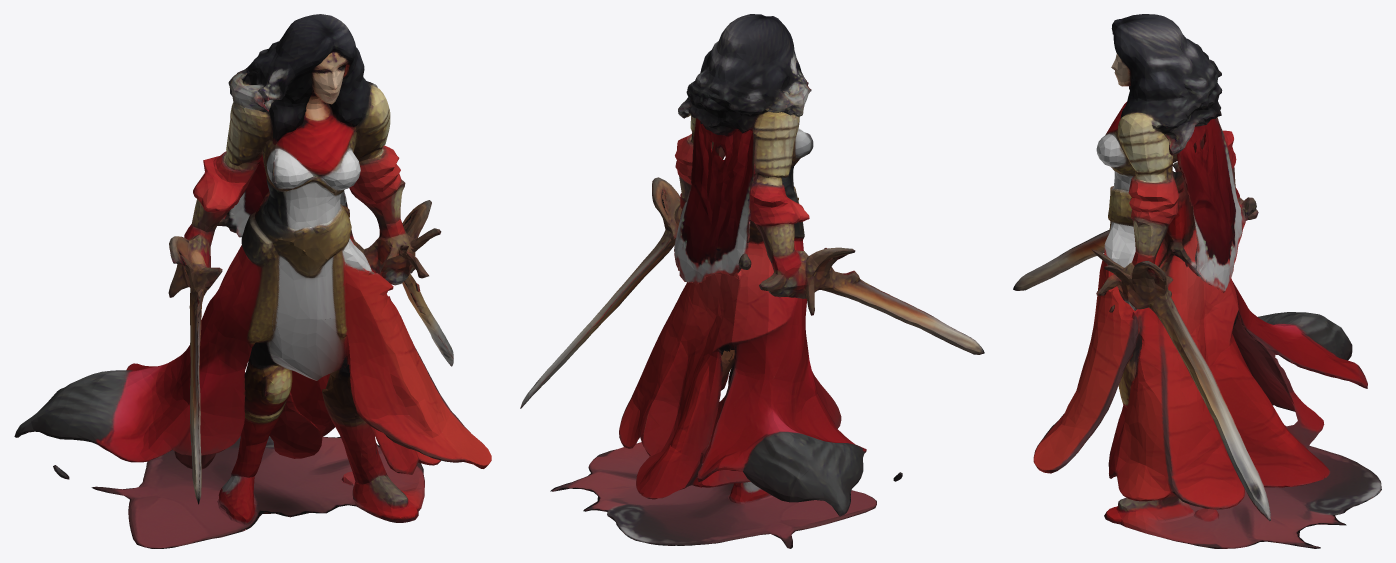
File: white-wazir.glb
3 renders of one model, left to right at view 1: azimuth 30°, elevation 25°; view 2: azimuth 150°, elevation 25°; view 3: azimuth 270°, elevation 25°, orthographic. The views are drawn at different scales.
Visible parts, largest first — view 1: world; view 2: world; view 3: world.
Part boxes in pixels (left/top/right/bottom): world: left=14, top=14, right=491, bottom=548; world: left=520, top=14, right=984, bottom=548; world: left=1013, top=14, right=1381, bottom=548.
Size of the model in its own units: 0.8683 by 1 by 0.7143.
1 material, 1 textured.
